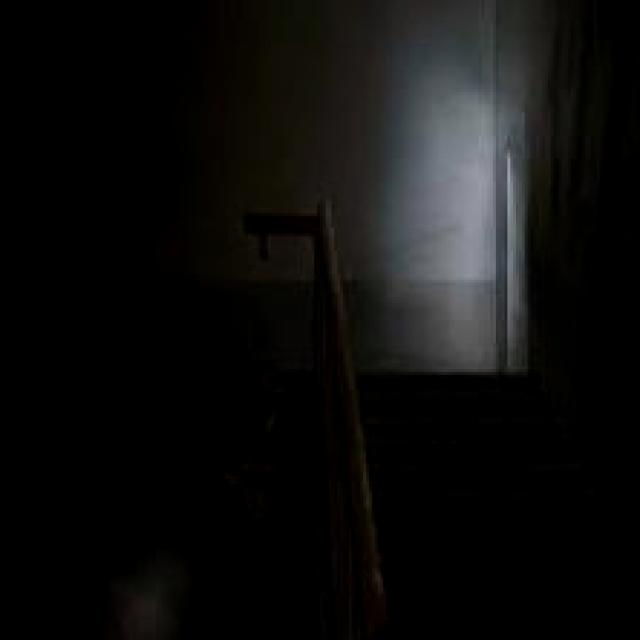upstair: (350, 359, 635, 610)
